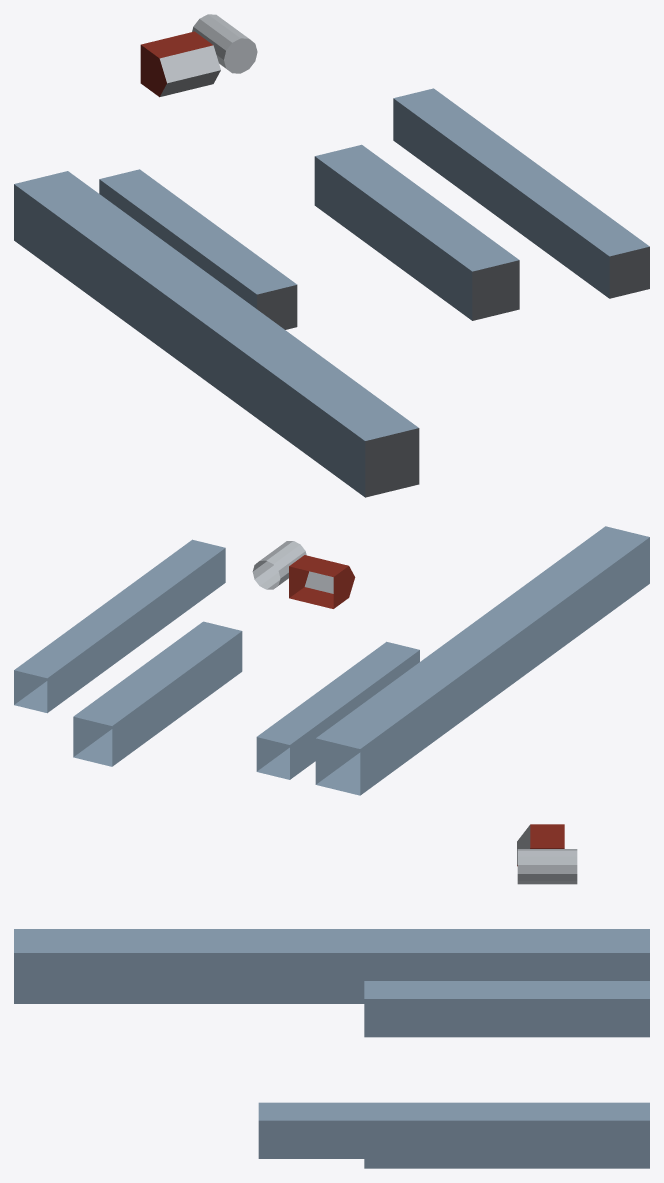
Rendered from island_bldg_08_08.obj.
3 renders of one model, top to bottom at view 1: azimuth 30°, elevation 25°; view 2: azimuth 150°, elevation 25°; view 3: azimuth 270°, elevation 25°, orthographic. The views are drawn at different scales.
Visible parts, largest first — view 1: island_bldg_08_08; view 2: island_bldg_08_08; view 3: island_bldg_08_08.
Boxes of the visible parts, bbox=[...] form: island_bldg_08_08: bbox=[14, 14, 649, 497]; island_bldg_08_08: bbox=[14, 526, 649, 795]; island_bldg_08_08: bbox=[14, 824, 649, 1168].
Bounding box in the file's own units: 249 × 145 × 361.
